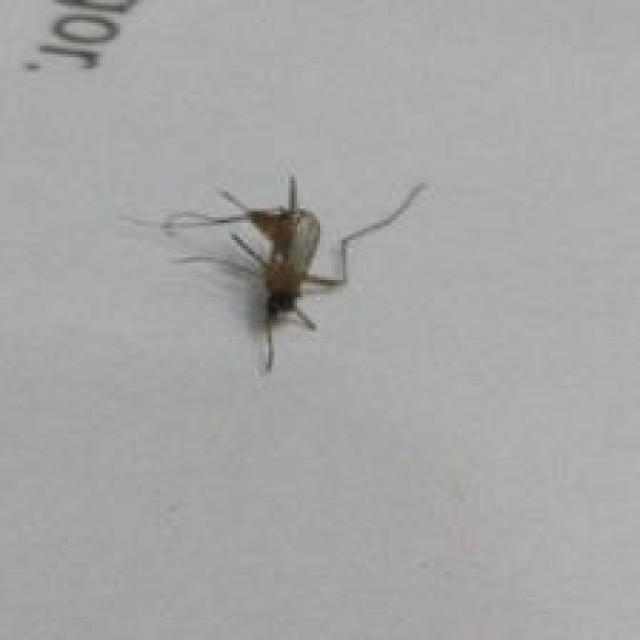Culex: (125, 173, 428, 373)
